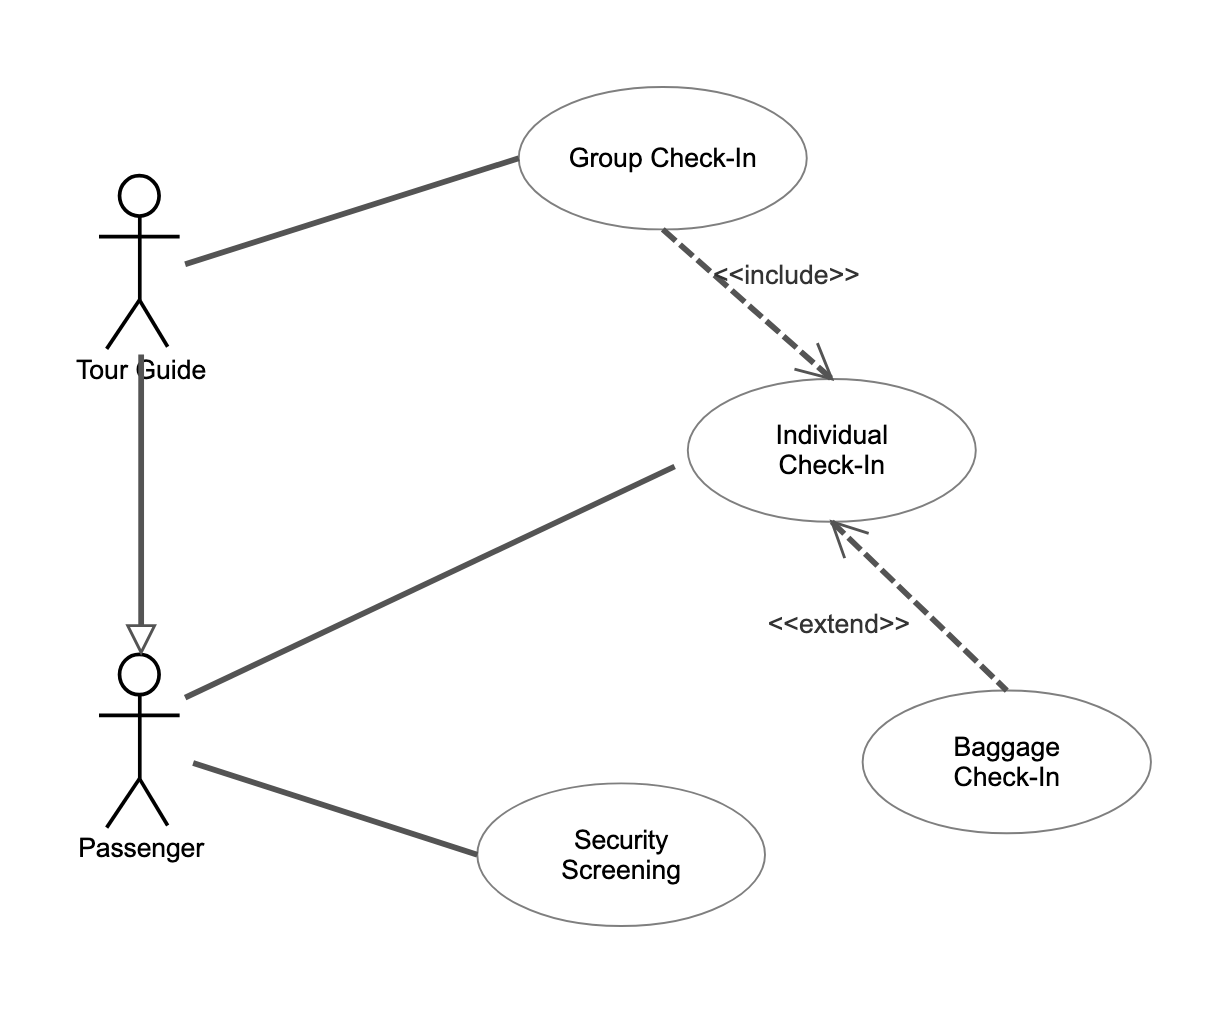actor: (90, 653, 180, 834), (92, 168, 178, 351)
association: (185, 455, 680, 703), (184, 148, 518, 270), (828, 517, 1011, 693), (188, 756, 478, 858), (661, 224, 836, 382), (120, 352, 166, 657)
text: (547, 820, 689, 888), (765, 417, 897, 481), (559, 139, 759, 180), (946, 730, 1068, 791), (759, 604, 915, 640), (72, 355, 213, 389), (716, 261, 865, 291), (74, 834, 209, 864)
use_case: (860, 688, 1154, 837), (686, 376, 978, 526), (474, 780, 767, 929), (516, 84, 808, 232)
